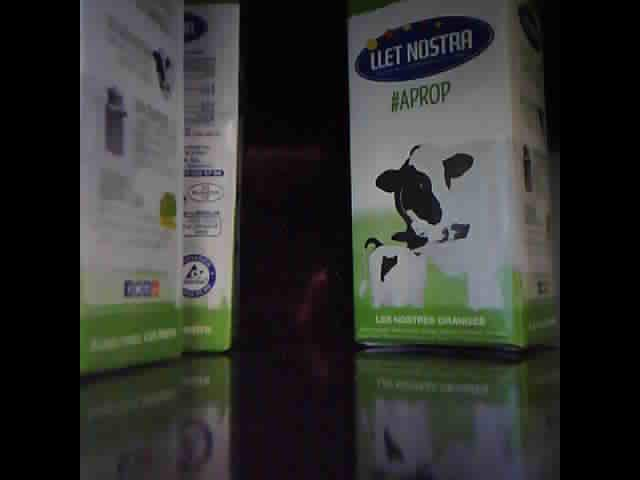leche: (347, 2, 551, 351), (83, 5, 184, 377), (184, 5, 241, 355)
